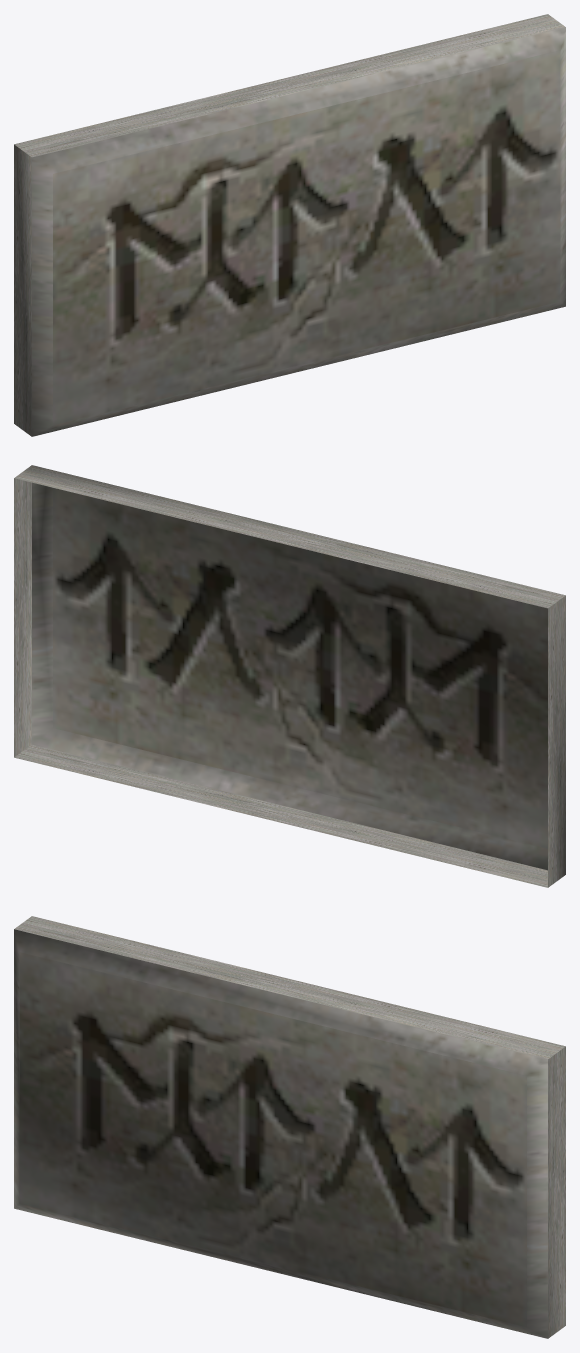
The model's file is DWARF_PALACE_MAINHALL_S_PLAQUE_THROR.fbx.
The picture shows the model from 3 angles, top to bottom: view 1: azimuth 30°, elevation 25°; view 2: azimuth 150°, elevation 25°; view 3: azimuth 330°, elevation 25°; orthographic projection.
Visible parts, largest first — view 1: DWARF_PALACE_MAINHALL_S_PLAQUE_THROR; view 2: DWARF_PALACE_MAINHALL_S_PLAQUE_THROR; view 3: DWARF_PALACE_MAINHALL_S_PLAQUE_THROR.
Part boxes in pixels (<box>): DWARF_PALACE_MAINHALL_S_PLAQUE_THROR: <box>14,14,565,436</box>; DWARF_PALACE_MAINHALL_S_PLAQUE_THROR: <box>14,465,565,887</box>; DWARF_PALACE_MAINHALL_S_PLAQUE_THROR: <box>14,916,565,1338</box>.
Size of the model in its own units: 12000 by 6000 by 1000.
2 materials, 2 textured.
